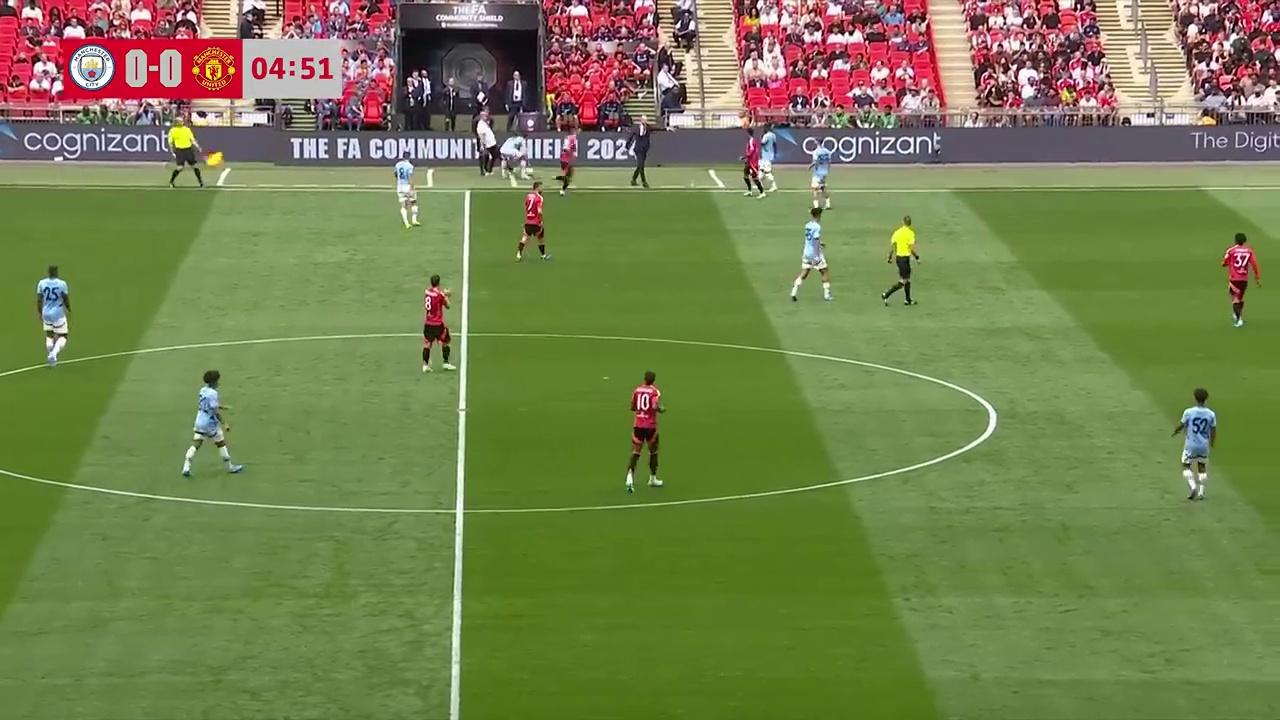player: (180, 369, 244, 477), (1172, 388, 1217, 501), (624, 370, 665, 493), (790, 208, 834, 303), (1221, 233, 1261, 329), (35, 264, 70, 367), (421, 275, 452, 372), (515, 182, 552, 261), (393, 155, 420, 227), (741, 132, 765, 197), (808, 159, 832, 213), (759, 134, 779, 191), (556, 139, 576, 195)
referee: (882, 216, 920, 310), (166, 120, 204, 190)
